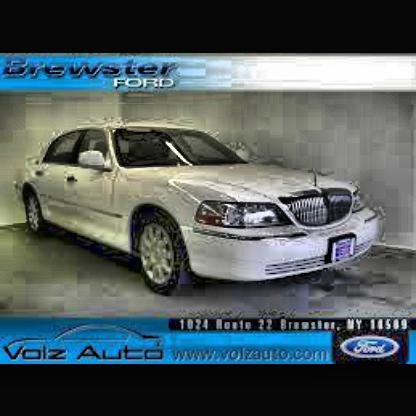Lincoln Town Car Sedan 2011: (20, 127, 384, 300)
